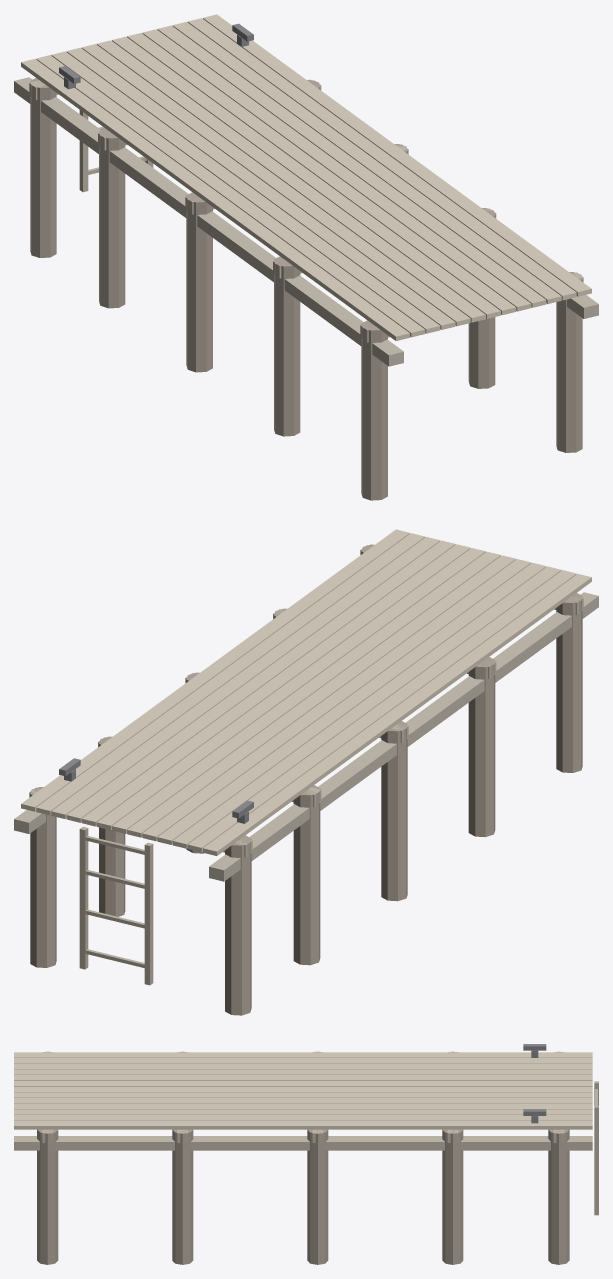
Rendered from FishingDock.glb.
3 renders of one model, top to bottom at view 1: azimuth 30°, elevation 25°; view 2: azimuth 150°, elevation 25°; view 3: azimuth 270°, elevation 25°, orthographic. The views are drawn at different scales.
Parts seen in each view (by area): view 1: fishing_dock; view 2: fishing_dock; view 3: fishing_dock.
Part boxes in pixels (box(x1,y1,x2,y2)): fishing_dock: box(14, 14, 598, 500); fishing_dock: box(14, 529, 598, 1015); fishing_dock: box(14, 1044, 598, 1264).
Size of the model in its own units: 2.02 by 1.67 by 6.06.
